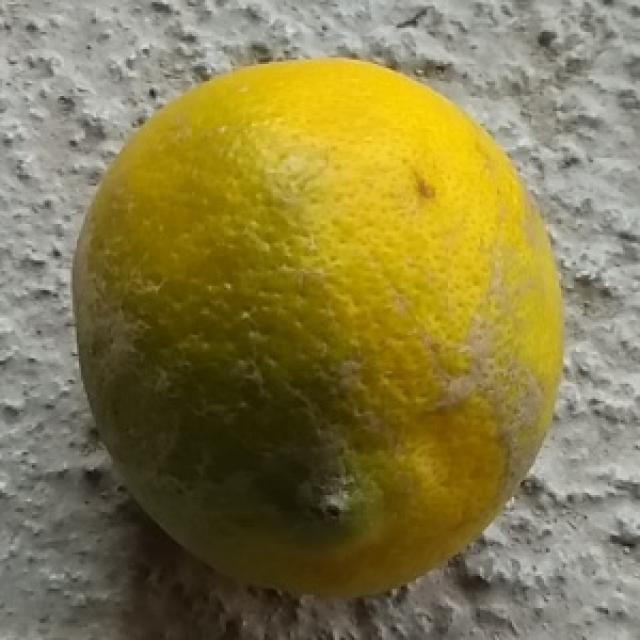Unripe: (62, 60, 569, 598)
